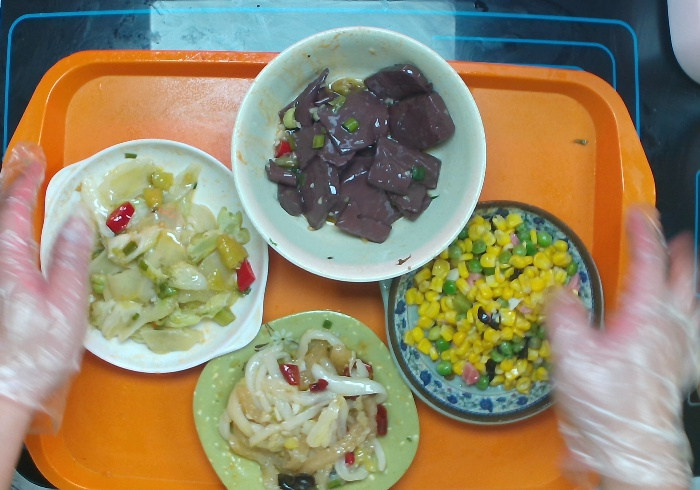NLDX-Bai_Se_Shuang_Er_Die: (45, 139, 273, 376)
NLDX-Bai_Se_Yuan_Wan: (220, 30, 494, 280)
NLDX-Lv_Hua_Fang_Die: (184, 307, 423, 490)
NLDX-Qing_Hua_Shuang_Er_Die: (377, 194, 607, 431)
